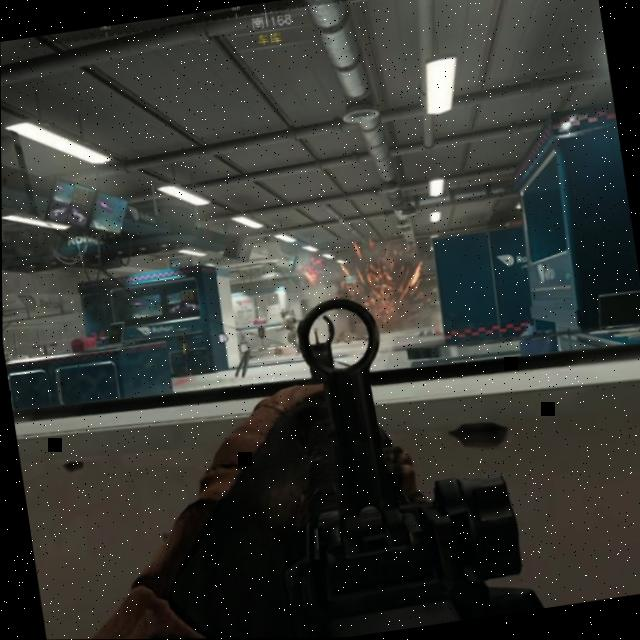MW2_body: (274, 307, 302, 357)
